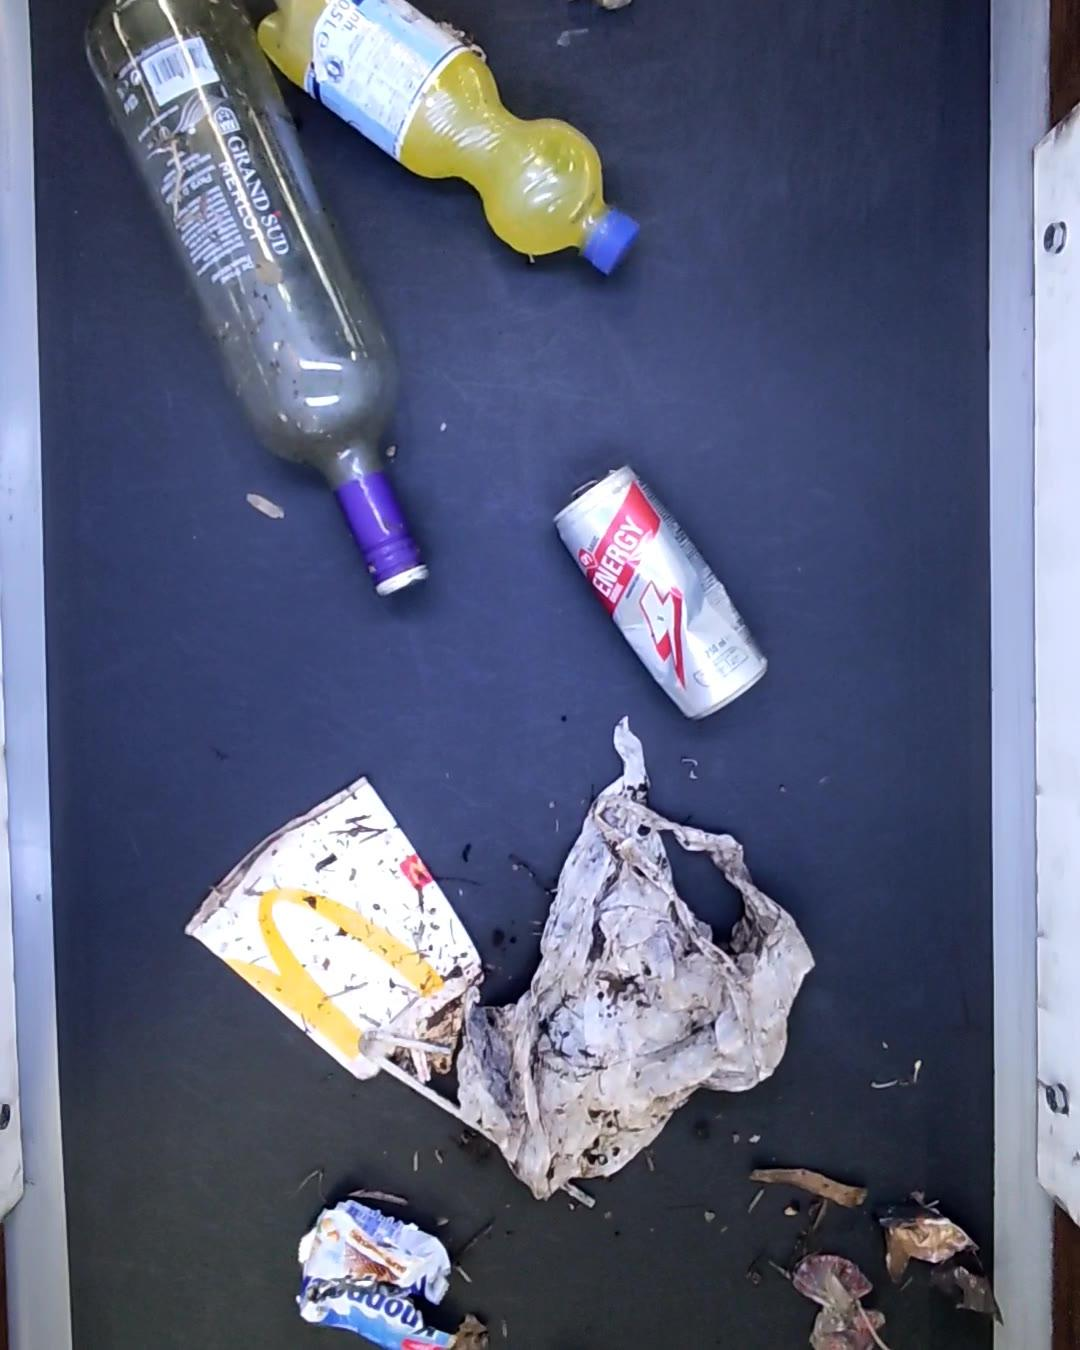Drankblikjes: (555, 465, 768, 725)
Drankflessen - 1-2 liter: (257, 0, 648, 273)
Plastic folies of stukken daarvan 2.5- 50 cm: (454, 713, 817, 1201)
Snoep snack en chips verpakkingen: (301, 1192, 455, 1350)
